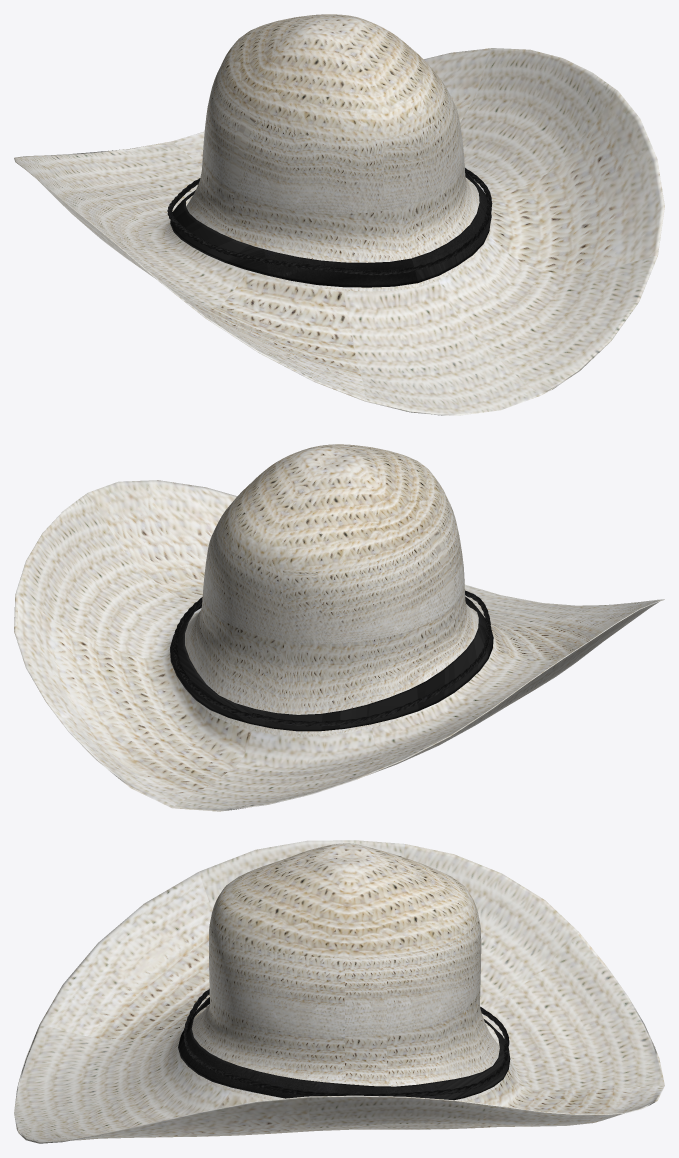
Rendered from sombrero aguadenio.fbx.
3 renders of one model, top to bottom at view 1: azimuth 30°, elevation 25°; view 2: azimuth 150°, elevation 25°; view 3: azimuth 270°, elevation 25°, orthographic.
Parts seen in each view (by area): view 1: maya_Sombrero1:Sombrero, maya_Sombrero1:Cinta, maya_Sombrero1:Cylinder001; view 2: maya_Sombrero1:Sombrero, maya_Sombrero1:Cinta, maya_Sombrero1:Cylinder001; view 3: maya_Sombrero1:Sombrero, maya_Sombrero1:Cinta, maya_Sombrero1:Cylinder001.
Boxes of the visible parts, <box> form: maya_Sombrero1:Sombrero: <box>14,14,664,415</box>; maya_Sombrero1:Cinta: <box>170,171,491,287</box>; maya_Sombrero1:Cylinder001: <box>167,168,492,275</box>; maya_Sombrero1:Sombrero: <box>14,444,664,811</box>; maya_Sombrero1:Cinta: <box>170,596,493,731</box>; maya_Sombrero1:Cylinder001: <box>173,590,491,726</box>; maya_Sombrero1:Sombrero: <box>14,840,664,1143</box>; maya_Sombrero1:Cinta: <box>178,997,510,1100</box>; maya_Sombrero1:Cylinder001: <box>183,988,509,1097</box>.
Bounding box in the file's own units: 249 × 117 × 267.
Materials: 3 (3 with a texture image).
